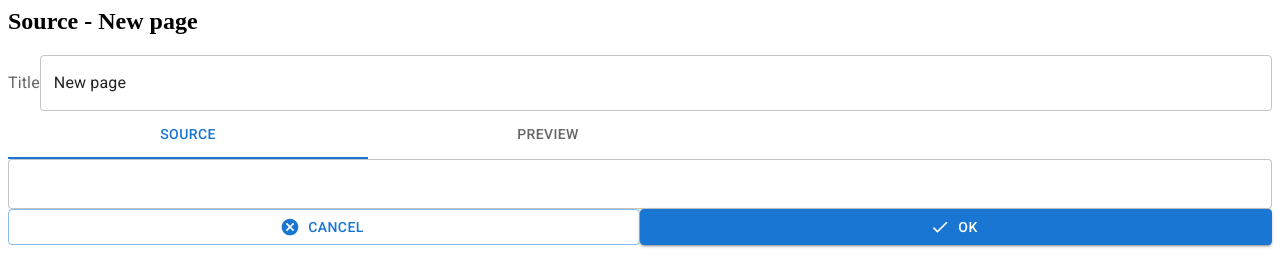
Scenario: PageContentEditor component › should disable the OK button when title is empty
Expected: the button "OK" is enabled, x1=640 y1=209 x2=1272 y2=245
Clear the field showing "New page": (656, 83) x1=40 y1=55 x2=1272 y2=111
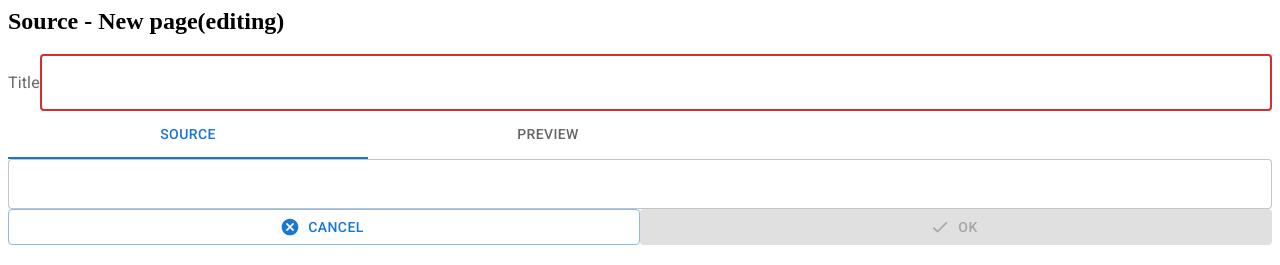
Expected: the button "OK" is disabled, x1=640 y1=209 x2=1272 y2=245
